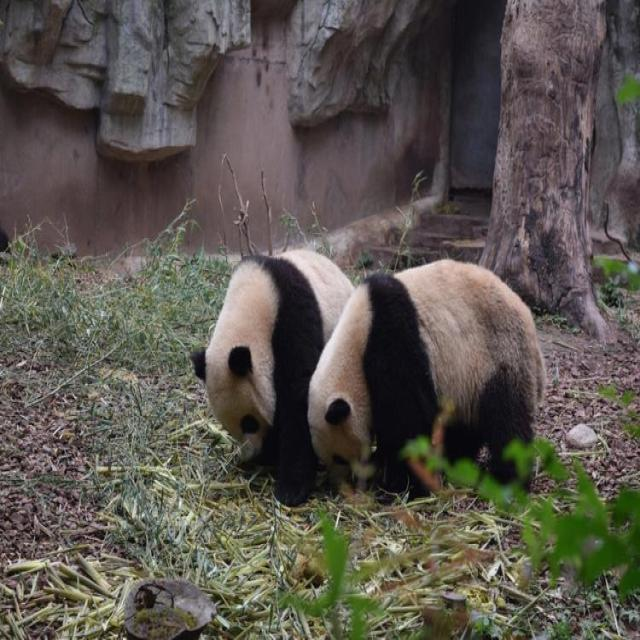panda: (185, 233, 530, 521)
